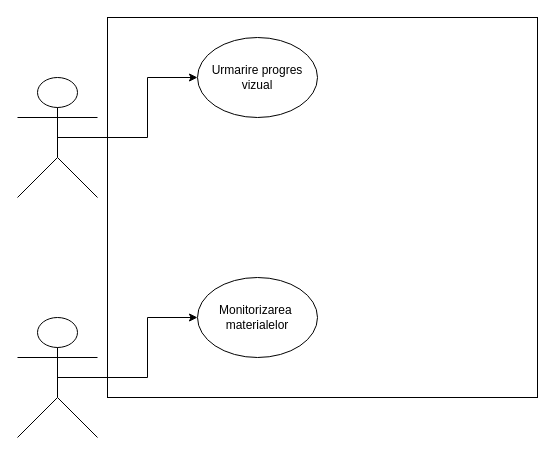
This 555x476 diagram has some shape labels left out. The shapes that lost their labels are listed below. From the top down, each one's box as (x1, y1, x2, y2) in pixels, then its label:
(16, 76, 98, 198): Student
(16, 316, 98, 438): C.D.
